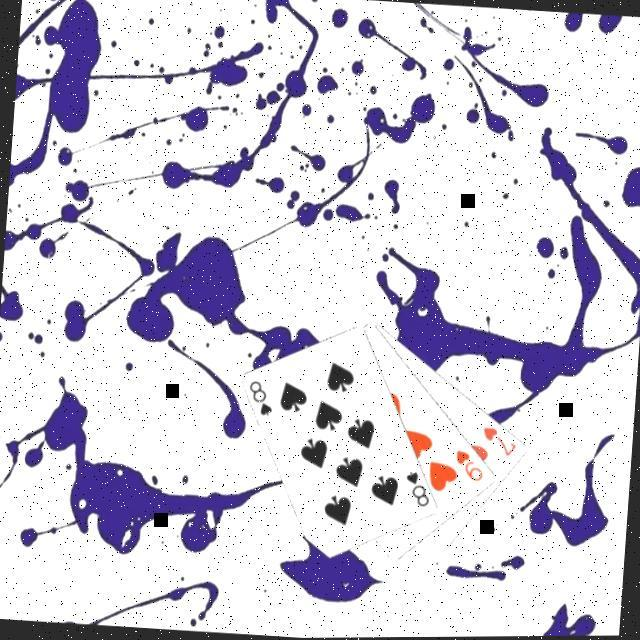7H: (478, 422, 520, 459)
8S: (243, 375, 276, 419), (400, 466, 434, 508)
9H: (450, 446, 486, 484)
